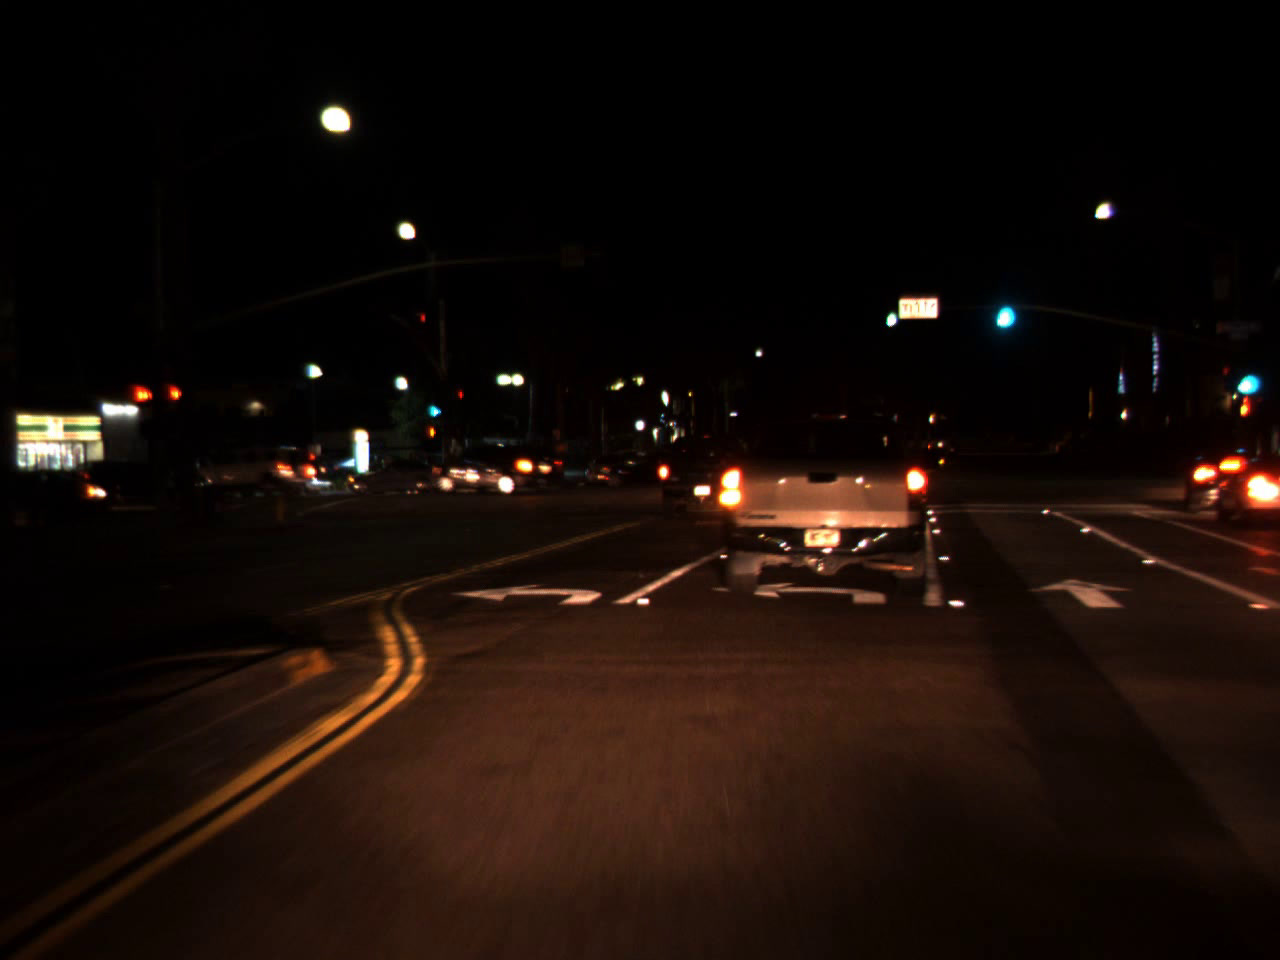go: (988, 279, 1018, 336), (1230, 358, 1258, 400), (424, 388, 445, 424), (884, 296, 898, 332)
